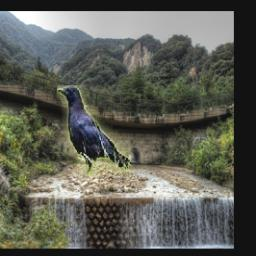Crow: (58, 85, 132, 176)
